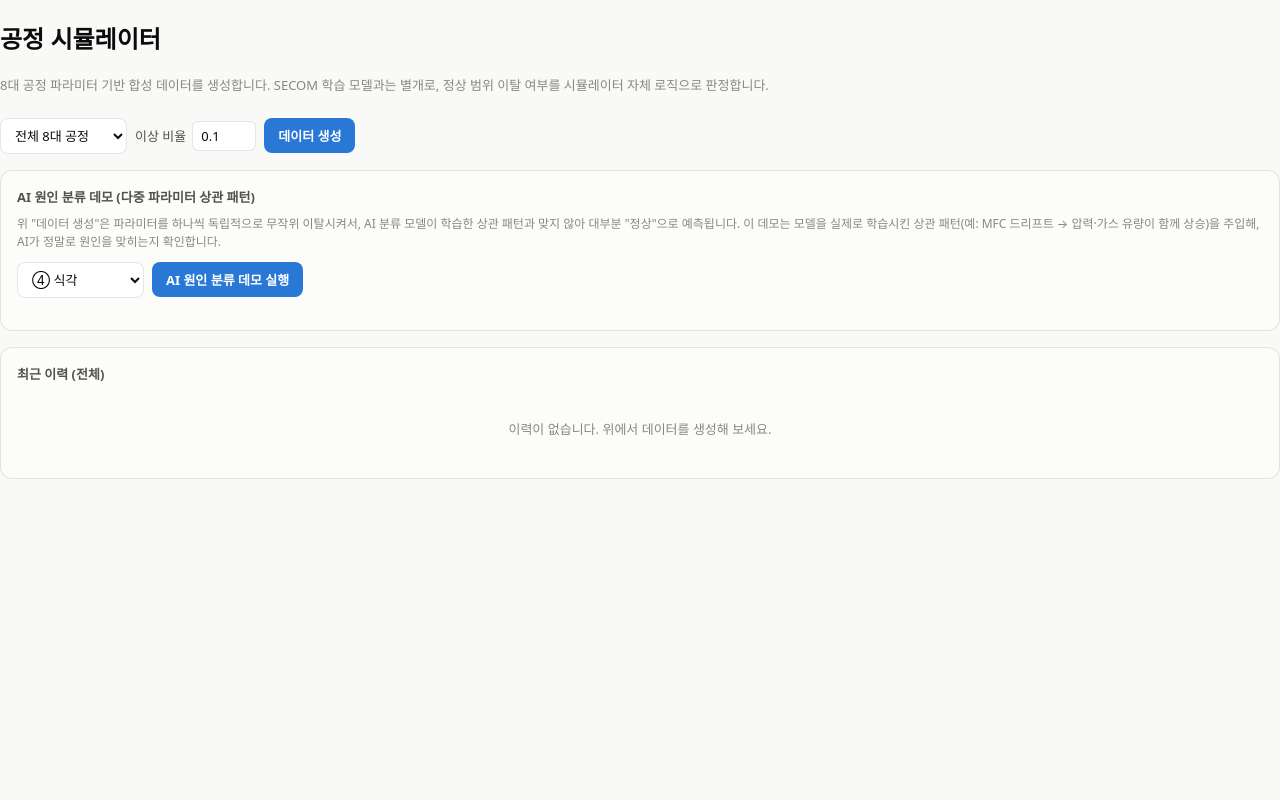
Simulator page › splits generated readings into a 정상 column and an 이상 column
Click the button "데이터 생성". click: (310, 136)
box: [264, 118, 355, 153]
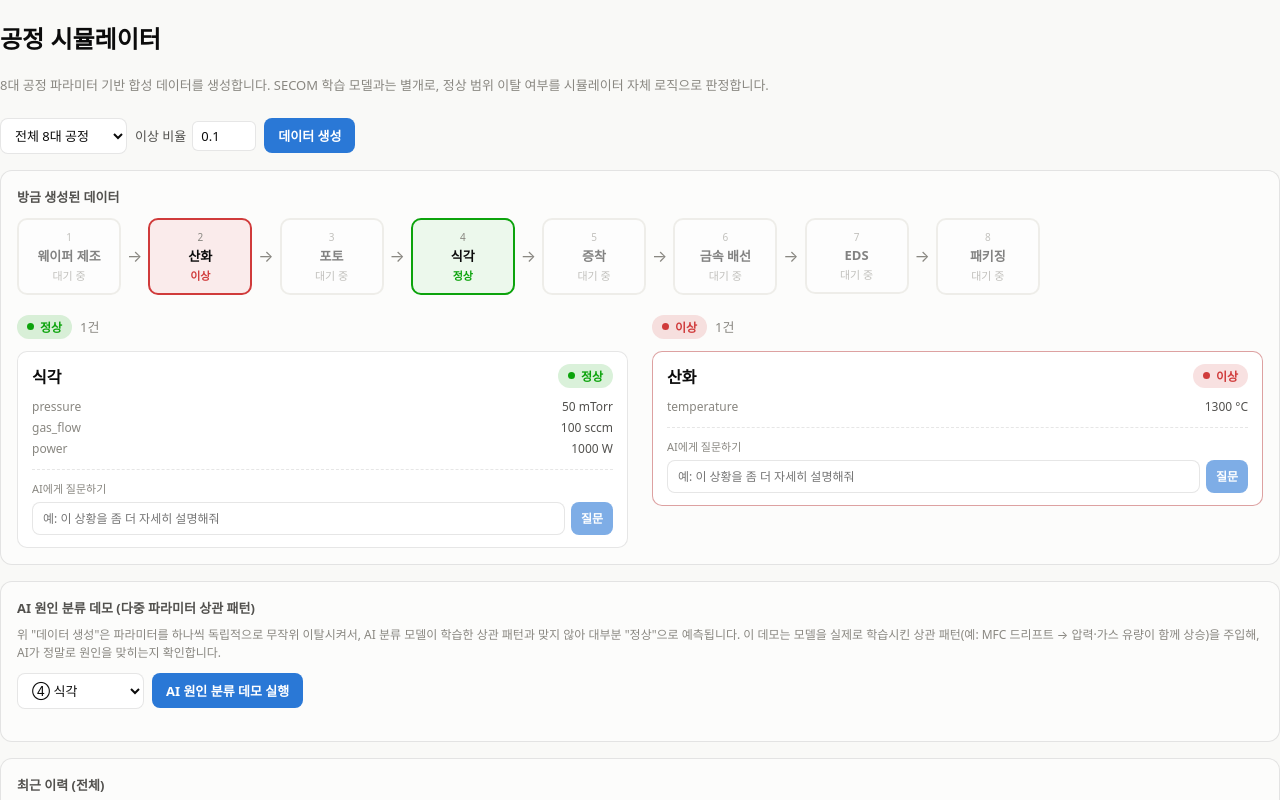
Check: the text "식각" next to "증착" is shown, box [451, 247, 475, 265]
Check: the text "산화" next to "웨이퍼 제조" is shown, box [188, 247, 212, 265]
Check: the text "1건" is shown 2 times, box [80, 317, 100, 336]; [715, 317, 734, 336]
